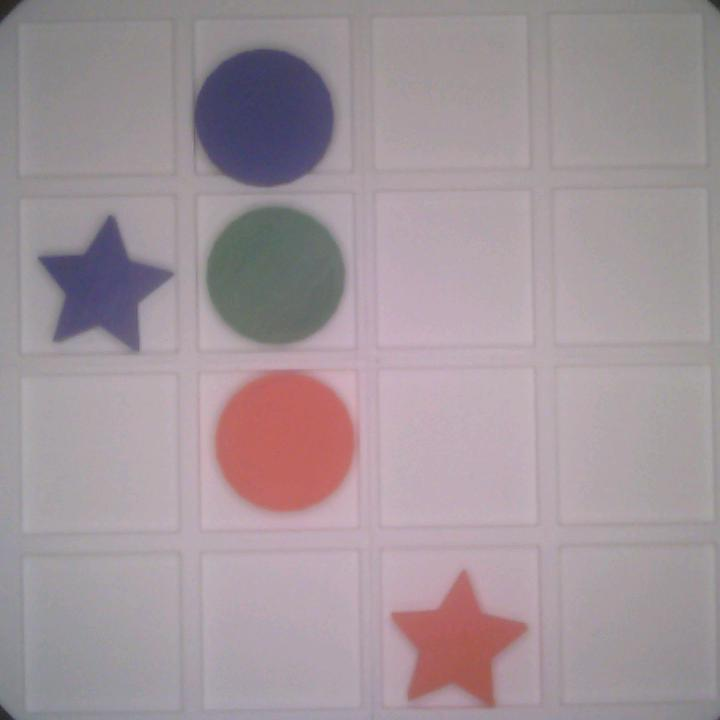Blue circle: (192, 52, 333, 188)
Blue star: (37, 216, 169, 349)
Green circle: (202, 202, 342, 350)
Orange circle: (210, 367, 358, 515)
Orange star: (387, 566, 527, 710)
